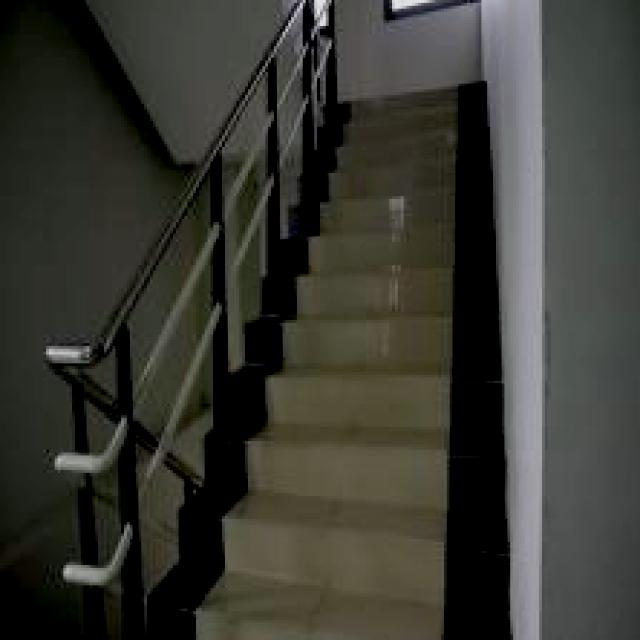upstair: (292, 90, 494, 615)
